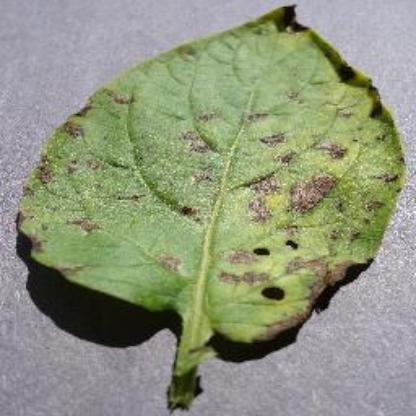Early-Blight: (17, 4, 409, 406)
